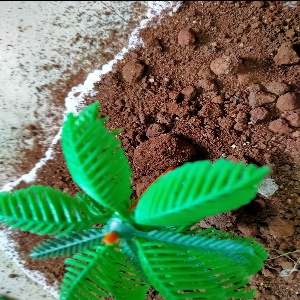plant: (2, 105, 274, 300)
